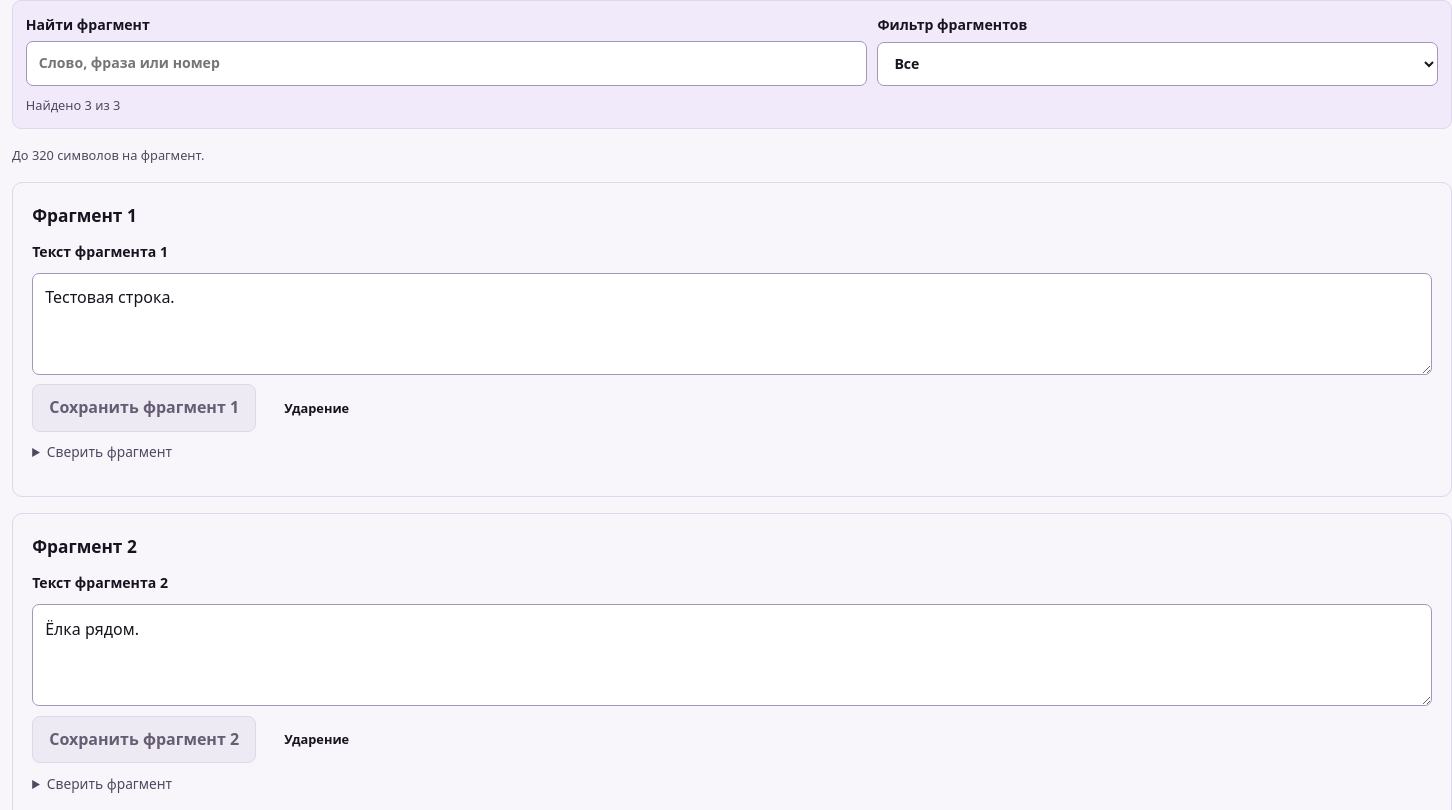
Scenario: finds Russian text without case, yo or accents and updates audio filters from accepted outputs
The width and height of the screenshot is (1452, 810).
Later steps or results of the test are not shown.
Type "МАМА рядом с елкой" into the search field labelled "Найти фрагмент". click: (446,63)
box: 26,41 -> 867,86
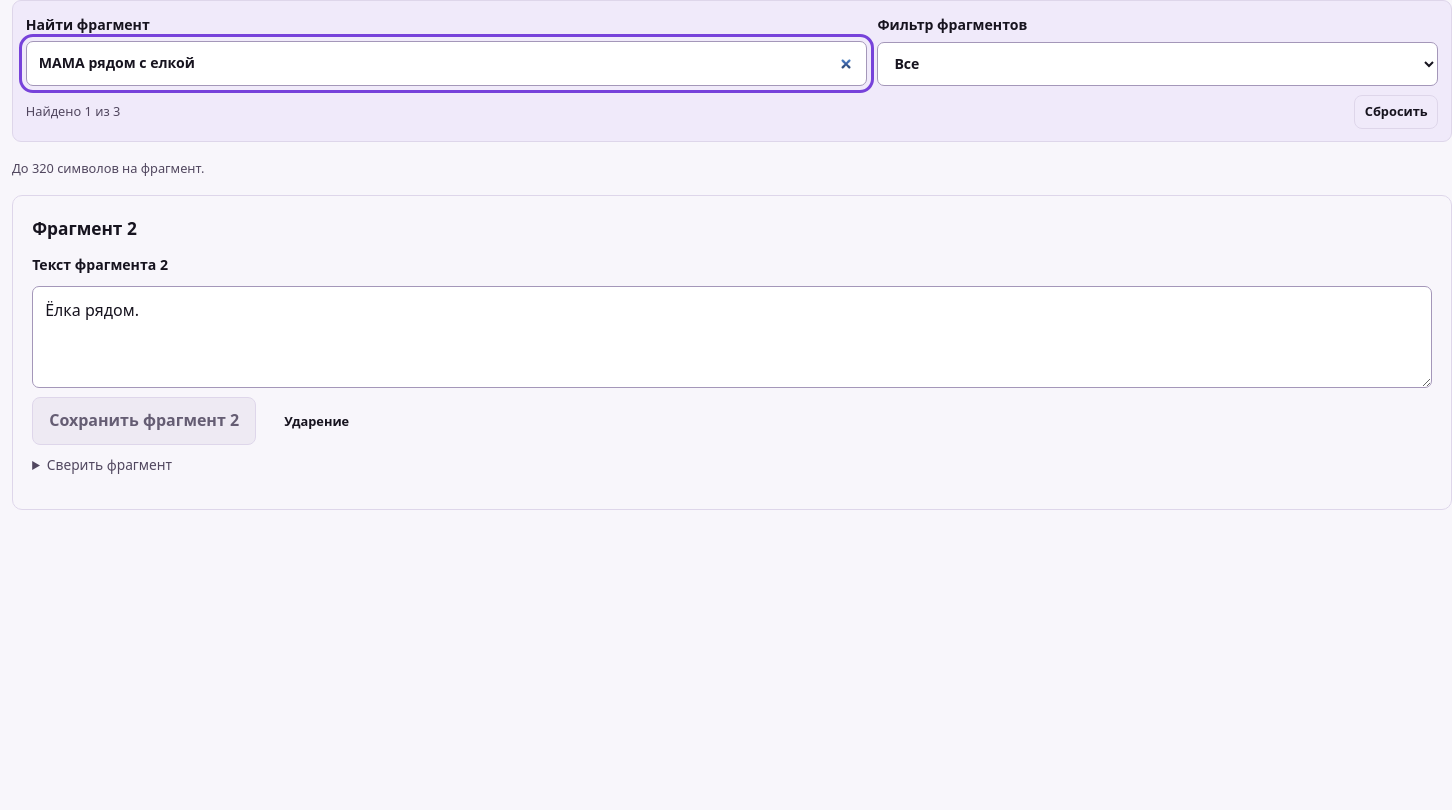
Expected: the text box labelled "Текст фрагмента 2" is shown, 32,286 -> 1432,388
Expected: the label labelled "Текст фрагмента 1" is gone
